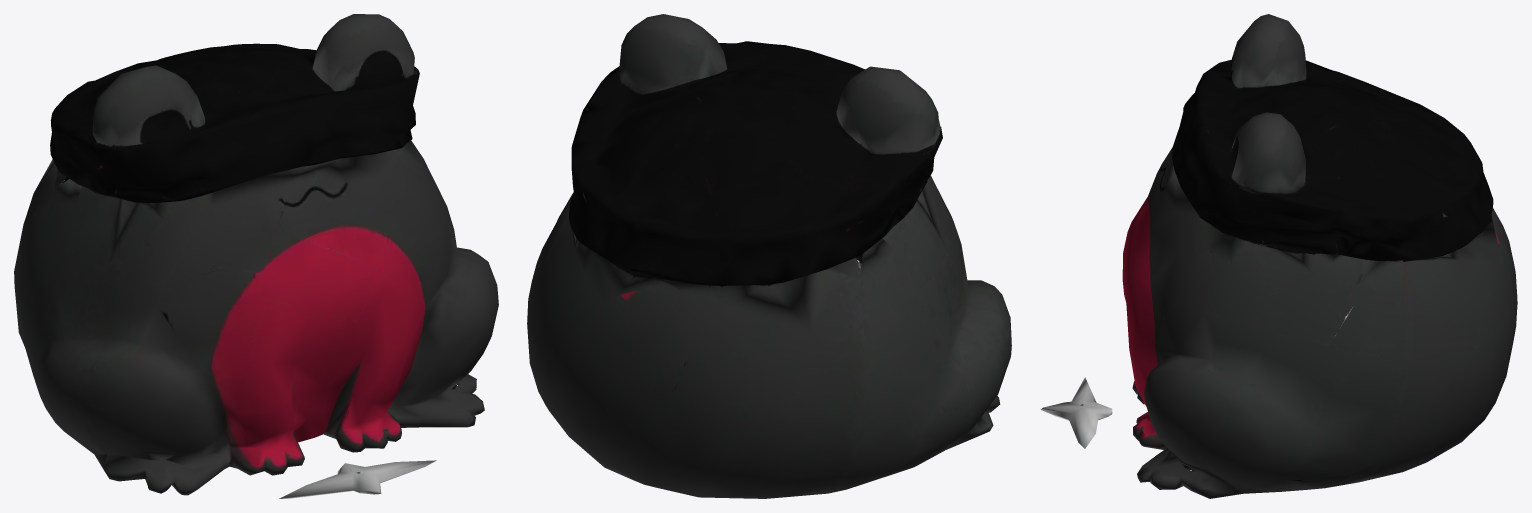
The model's file is couronne.glb.
The picture shows the model from 3 angles, left to right: view 1: azimuth 30°, elevation 25°; view 2: azimuth 150°, elevation 25°; view 3: azimuth 270°, elevation 25°; orthographic projection. The views are drawn at different scales.
Parts seen in each view (by area): view 1: mesh_node; view 2: mesh_node; view 3: mesh_node.
Boxes of the visible parts, left/top/right/bottom form: mesh_node: left=14, top=14, right=498, bottom=498; mesh_node: left=527, top=14, right=1011, bottom=498; mesh_node: left=1040, top=14, right=1517, bottom=498.
Bounding box in the file's own units: 1.83 × 1.52 × 1.9.
1 material, 1 textured.
